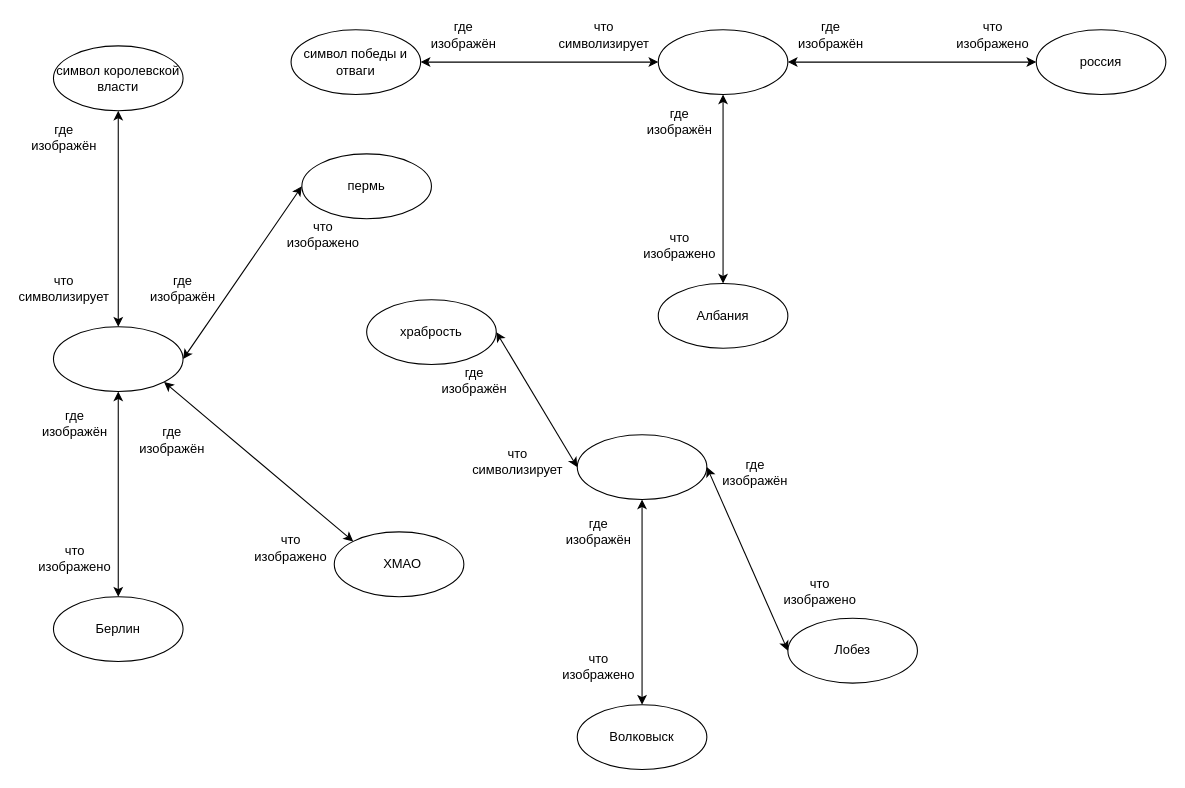
Some shapes in this 1185 by 788 pixel diagram are drawn without their labels. The centre of each missing label's shape, as x and y in pixels:
"волк" goes at (641,467).
"медведь" goes at (117,359).
"орёл" goes at (722,61).
